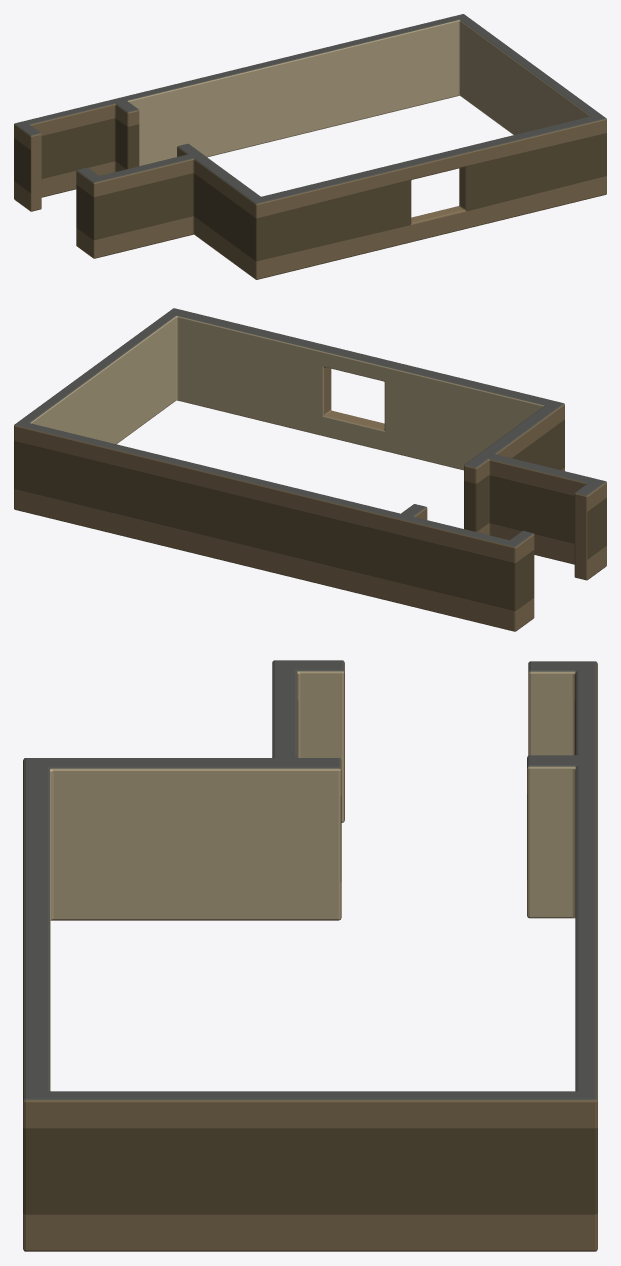
File: storage_walls.fbx
The picture shows the model from 3 angles, top to bottom: view 1: azimuth 30°, elevation 25°; view 2: azimuth 150°, elevation 25°; view 3: azimuth 270°, elevation 25°; orthographic projection. The views are drawn at different scales.
Parts seen in each view (by area): view 1: Storage; view 2: Storage; view 3: Storage.
Part boxes in pixels (x1=…): Storage: x1=14, y1=14, x2=606, y2=279; Storage: x1=14, y1=308, x2=606, y2=631; Storage: x1=23, y1=660, x2=597, y2=1251.
Size of the model in its own units: 1850 by 300 by 1020.
